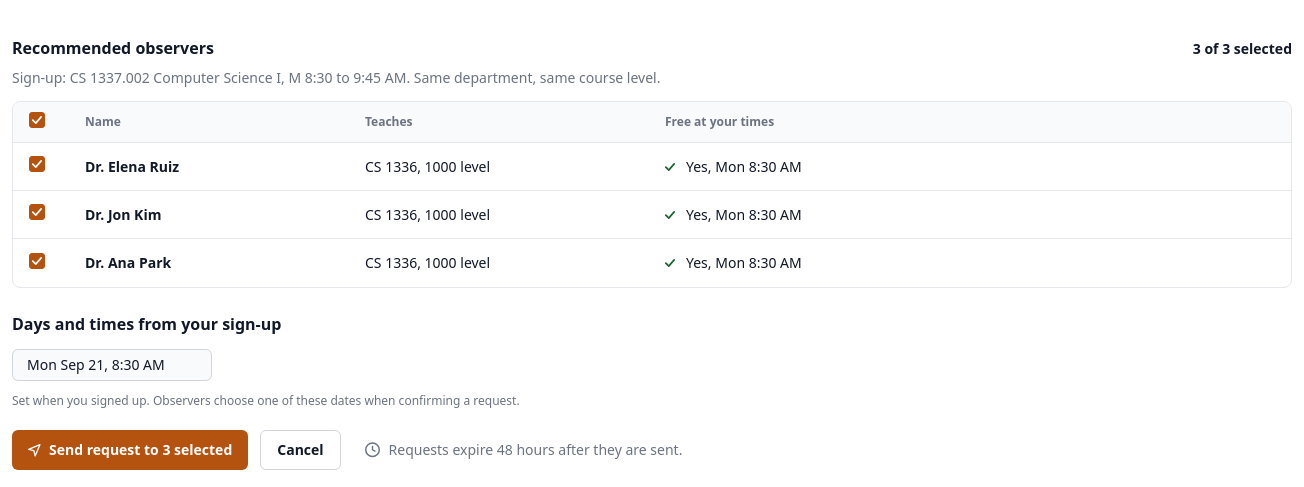
Test case: sends exactly the selected observers once, shows progress, then the refreshed requests
Click the checkbox named "Dr. Jon Kim". click: coordinates (37, 212)
box: [29,204,45,220]
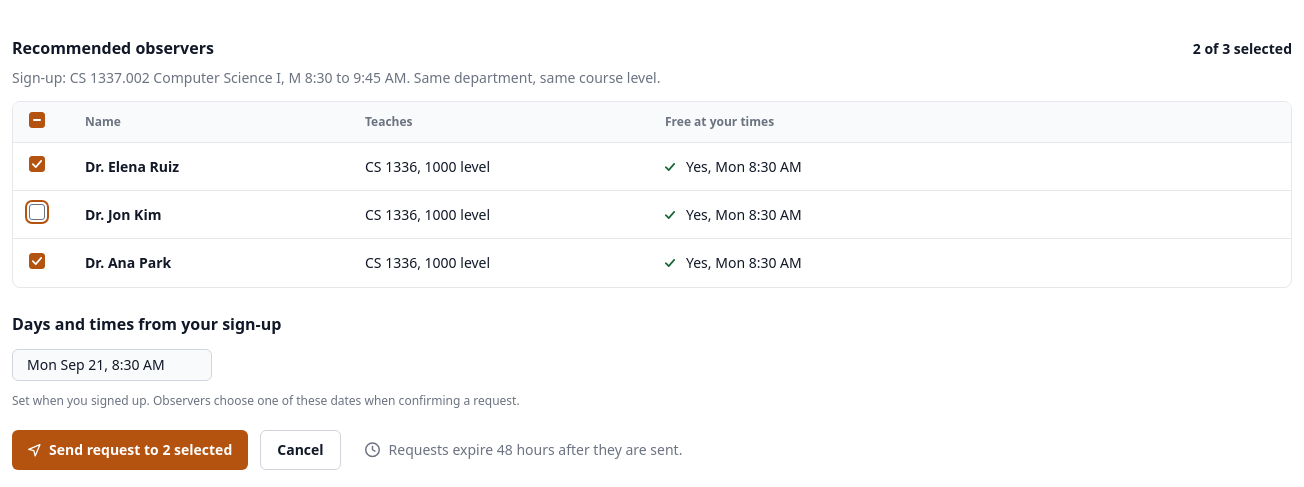
Click the button "Send request to 2 selected". click: coordinates (130, 450)
box: [12,430,248,470]
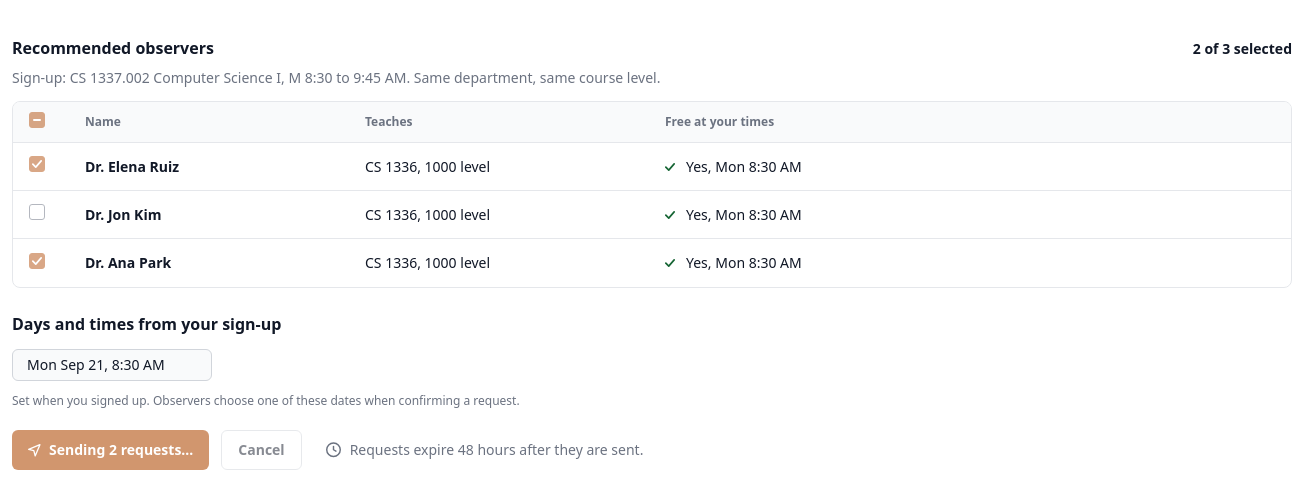
Expected: the button "Sending 2 requests…" is disabled
Expected: the button "Cancel" is disabled, [221,430,302,470]
Click the button "Sending 2 requests…". click: coordinates (111, 450)
box: [12,430,209,470]
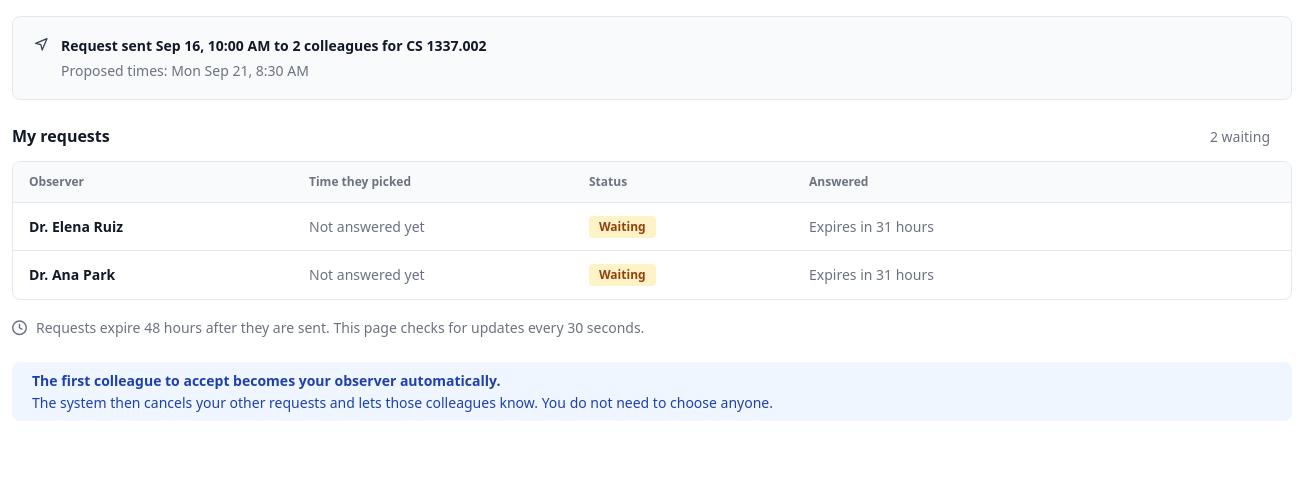
Expected: the text "Waiting" is shown 2 times, [589,216,656,238]; [589,264,656,286]
